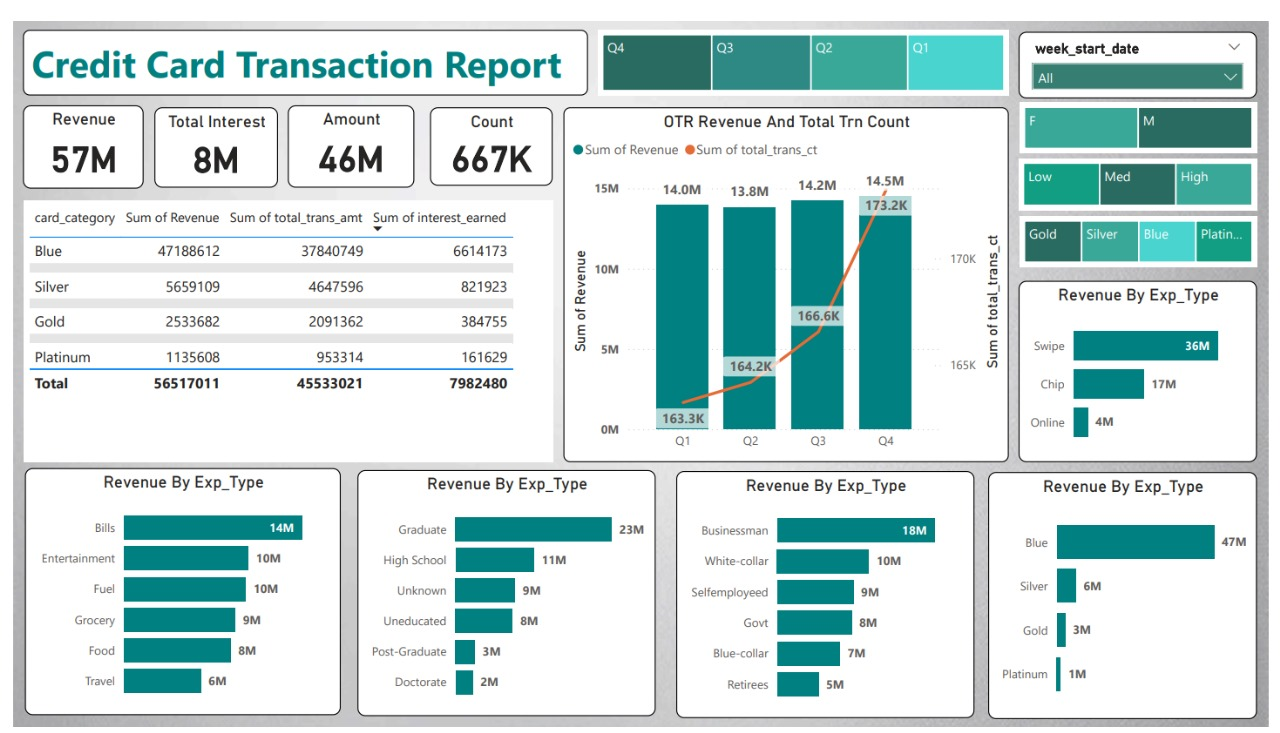

The page's visual inventory and layout, read from the dashboard file:
{"tool":"powerbi","page":{"name":"CC Transaction","canvas":[1280,720],"ordinal":1},"visuals":[{"type":"textbox","box":[10,8.8,576.2,67.5],"z":0},{"type":"lineStackedColumnComboChart","title":"OTR Revenue And Total Trn Count","fields":{"Category":["public cc_detail.qtr"],"Y":["Sum(public cc_detail.Revenue)"],"Y2":["Sum(public cc_detail.total_trans_ct)"]},"box":[561.2,87.5,453.8,362.5],"z":1000},{"type":"barChart","title":" Revenue By Exp_Type","fields":{"Y":["Sum(public cc_detail.Revenue)"],"Category":["public cc_detail.exp_type"]},"box":[11.6,455.8,322.1,252.3],"z":2000},{"type":"barChart","title":" Revenue By Exp_Type","fields":{"Y":["Sum(public cc_detail.Revenue)"],"Category":["public cust_detail.education_level"]},"box":[351.2,457.5,303.8,251.2],"z":3000},{"type":"barChart","title":" Revenue By Exp_Type","fields":{"Y":["Sum(public cc_detail.Revenue)"],"Category":["public cust_detail.customer_job"]},"box":[676.2,458.8,303.8,252.5],"z":4000},{"type":"barChart","title":" Revenue By Exp_Type","fields":{"Y":["Sum(public cc_detail.Revenue)"],"Category":["public cc_detail.card_category"]},"box":[994.3,459.6,273.3,252.3],"z":5000},{"type":"barChart","title":" Revenue By Exp_Type","fields":{"Y":["Sum(public cc_detail.Revenue)"],"Category":["public cc_detail.use_chip"]},"box":[1025,265,242.5,185],"z":6000},{"type":"tableEx","fields":{"Values":["public cc_detail.card_category","Sum(public cc_detail.Revenue)","Sum(public cc_detail.total_trans_amt)","Sum(public cc_detail.interest_earned)"]},"box":[11.2,182.5,540,267.5],"z":7000},{"type":"card","title":"Revenue","fields":{"Values":["Sum(public cc_detail.Revenue)"]},"box":[10,86.2,122.5,85],"z":8000},{"type":"card","title":"Total Interest","fields":{"Values":["Sum(public cc_detail.interest_earned)"]},"box":[143.8,87.5,126.2,82.5],"z":9000},{"type":"card","title":"Amount","fields":{"Values":["Sum(public cc_detail.total_trans_amt)"]},"box":[280,86.2,128.8,83.8],"z":10000},{"type":"card","title":"Count","fields":{"Values":["Sum(public cc_detail.total_trans_ct)"]},"box":[425,87.5,125,80],"z":11000},{"type":"slicer","fields":{"Values":["public cc_detail.week_start_date"]},"box":[1025,11.2,242.5,67.5],"z":12000},{"type":"treemap","fields":{"Group":["public cc_detail.qtr"],"Values":["Avg(public cc_detail.client_num)"]},"box":[596.2,8.8,418.8,67.5],"z":13000},{"type":"treemap","fields":{"Group":["public cust_detail.gender"],"Values":["Avg(public cc_detail.client_num)"]},"box":[1026.2,82.5,241.2,52.5],"z":14000},{"type":"treemap","fields":{"Group":["public cc_detail.card_category"],"Values":["Avg(public cc_detail.client_num)"]},"box":[1026.2,198.8,241.2,52.5],"z":15000},{"type":"treemap","fields":{"Group":["public cust_detail.IncomeGroup"],"Values":["Avg(public cc_detail.client_num)"]},"box":[1025,140,242.5,52.5],"z":16000}]}

Visuals, with their boxes in screenshot pixels (x1, y1, x2, y2), scaled from the page's 1280x720 canvas onto the 1280x733 screenshot:
textbox: bbox=[10, 9, 586, 78]
"OTR Revenue And Total Trn Count" lineStackedColumnComboChart: bbox=[561, 89, 1015, 458]
" Revenue By Exp_Type" barChart: bbox=[12, 464, 334, 721]
" Revenue By Exp_Type" barChart: bbox=[351, 466, 655, 721]
" Revenue By Exp_Type" barChart: bbox=[676, 467, 980, 724]
" Revenue By Exp_Type" barChart: bbox=[994, 468, 1268, 725]
" Revenue By Exp_Type" barChart: bbox=[1025, 270, 1268, 458]
tableEx - public cc_detail.card_category x Sum(public cc_detail.Revenue): bbox=[11, 186, 551, 458]
"Revenue" card: bbox=[10, 88, 132, 174]
"Total Interest" card: bbox=[144, 89, 270, 173]
"Amount" card: bbox=[280, 88, 409, 173]
"Count" card: bbox=[425, 89, 550, 171]
slicer - public cc_detail.week_start_date: bbox=[1025, 11, 1268, 80]
treemap - public cc_detail.qtr x Avg(public cc_detail.client_num): bbox=[596, 9, 1015, 78]
treemap - public cust_detail.gender x Avg(public cc_detail.client_num): bbox=[1026, 84, 1267, 137]
treemap - public cc_detail.card_category x Avg(public cc_detail.client_num): bbox=[1026, 202, 1267, 256]
treemap - public cust_detail.IncomeGroup x Avg(public cc_detail.client_num): bbox=[1025, 143, 1268, 196]
